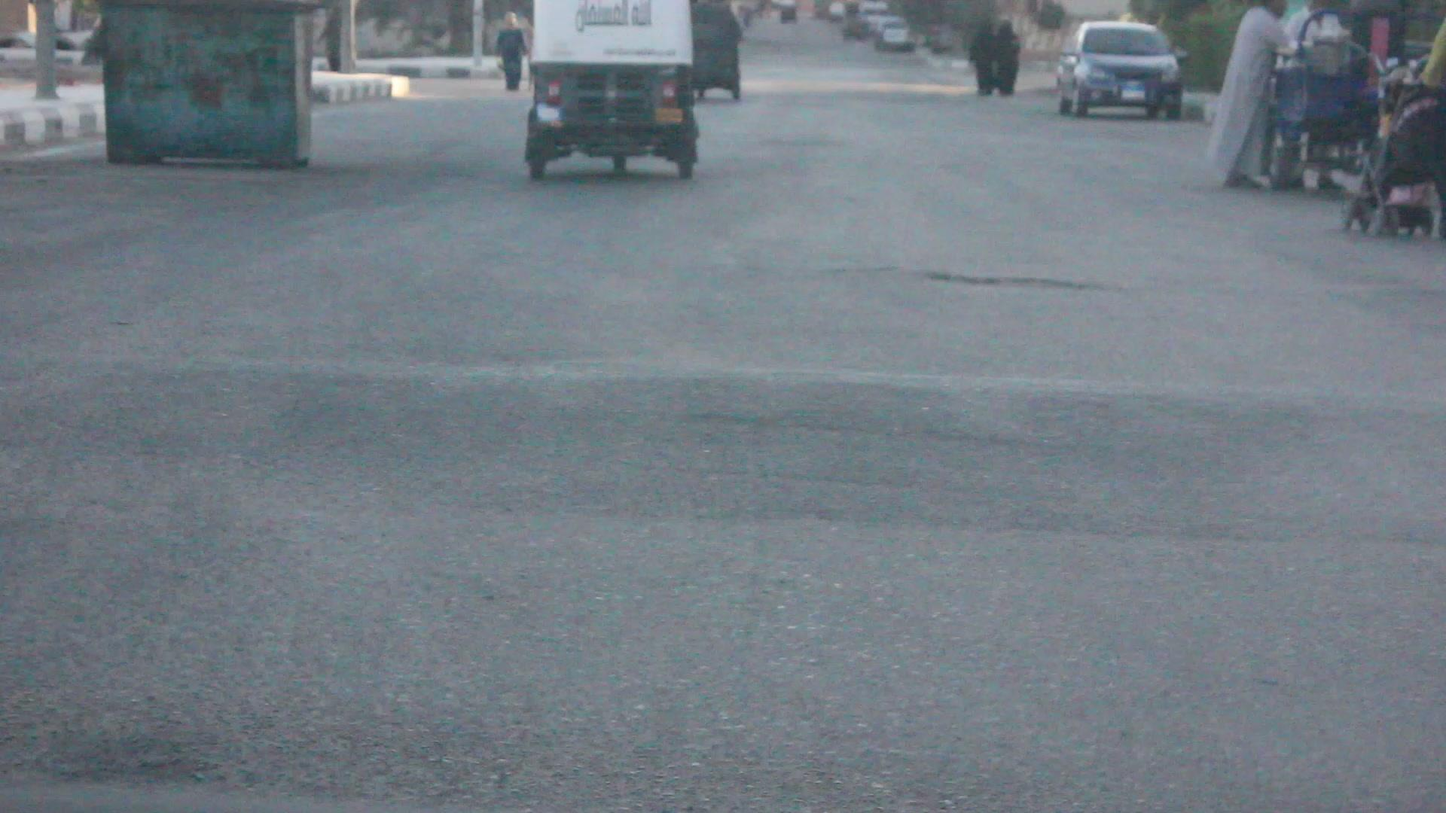Bump: (2, 359, 1446, 557)
Pothole: (902, 248, 1113, 301)
